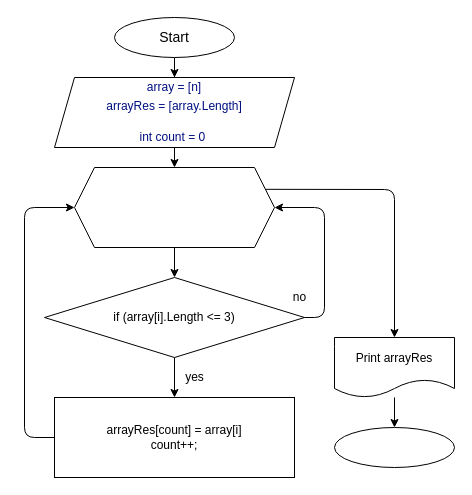
Some shapes in this 472 by 495 pixel diagram are drawn without their labels. Here are the shapes that lost their labels. From the top down, the centre of each, then its label:
the point at 174,207: for (int i =0; i < array.Length; i++)
the point at 394,447: End
